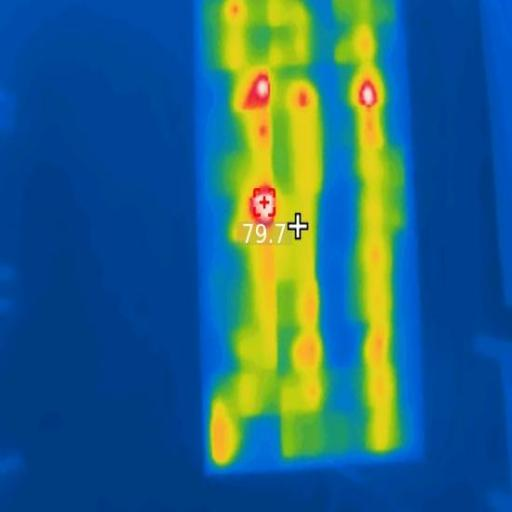hotspot: (252, 190, 276, 231), (250, 76, 274, 112), (362, 84, 378, 108), (299, 94, 310, 104), (259, 126, 267, 134), (234, 6, 240, 15)
